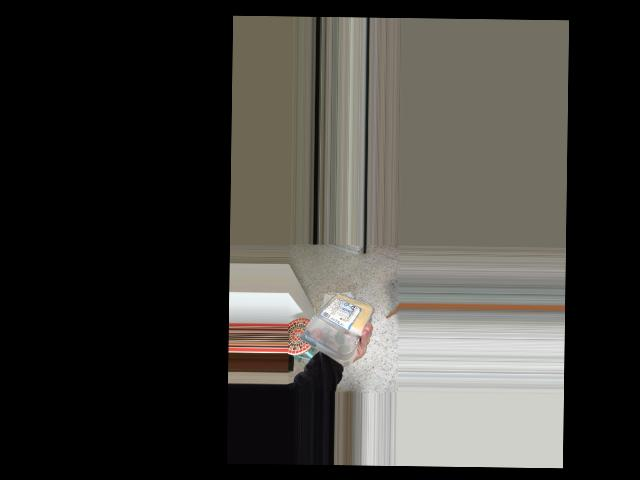cheese: (298, 286, 364, 362)
